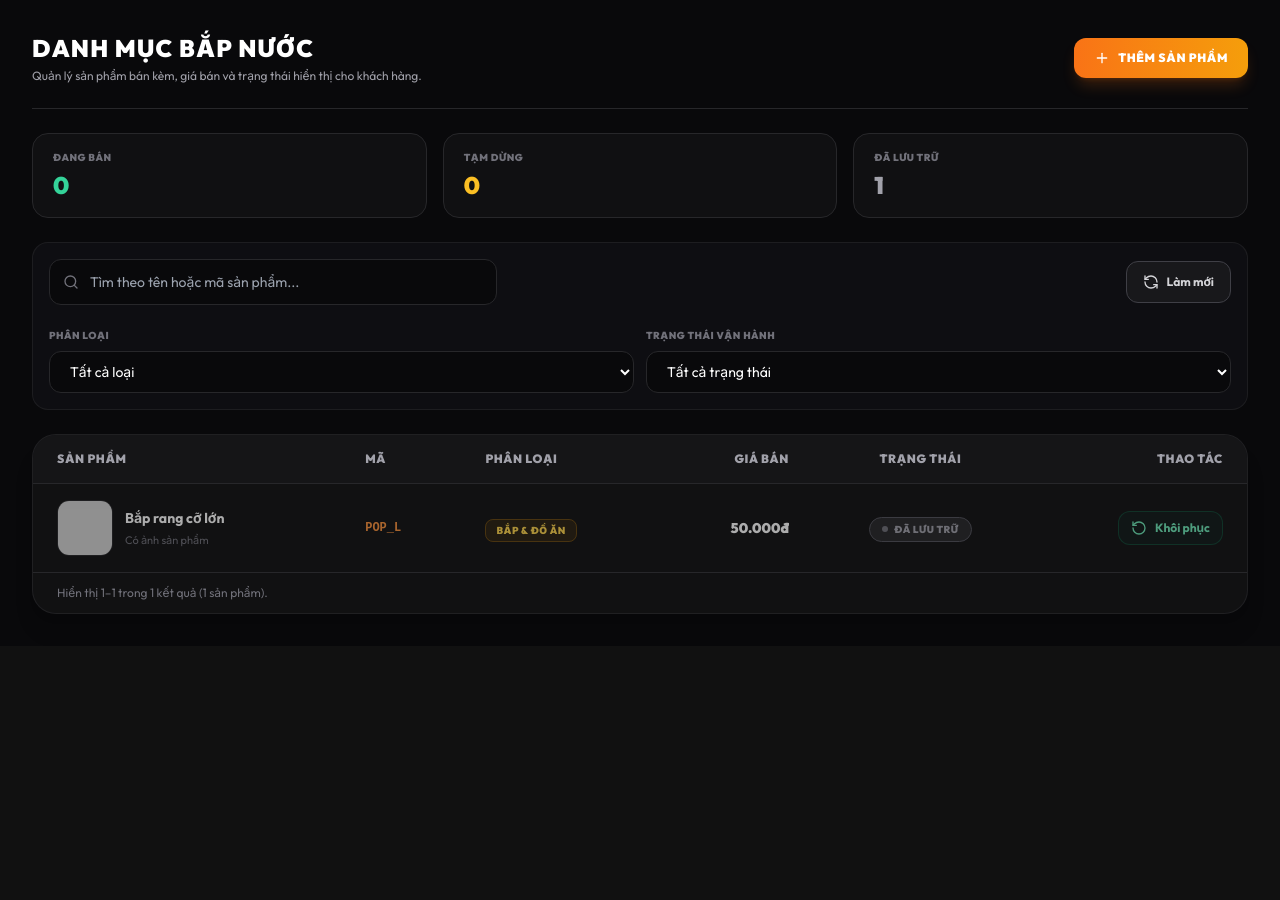
Test: AdminConcessionInventoryPage › restores an archived product in paused state
What coordinates should you click on to do the following:
click the button with aria-label "Khôi phục Bắp rang cỡ lớn"
I would click on:
 (1170, 528)
Its box is [1118,511,1223,545].
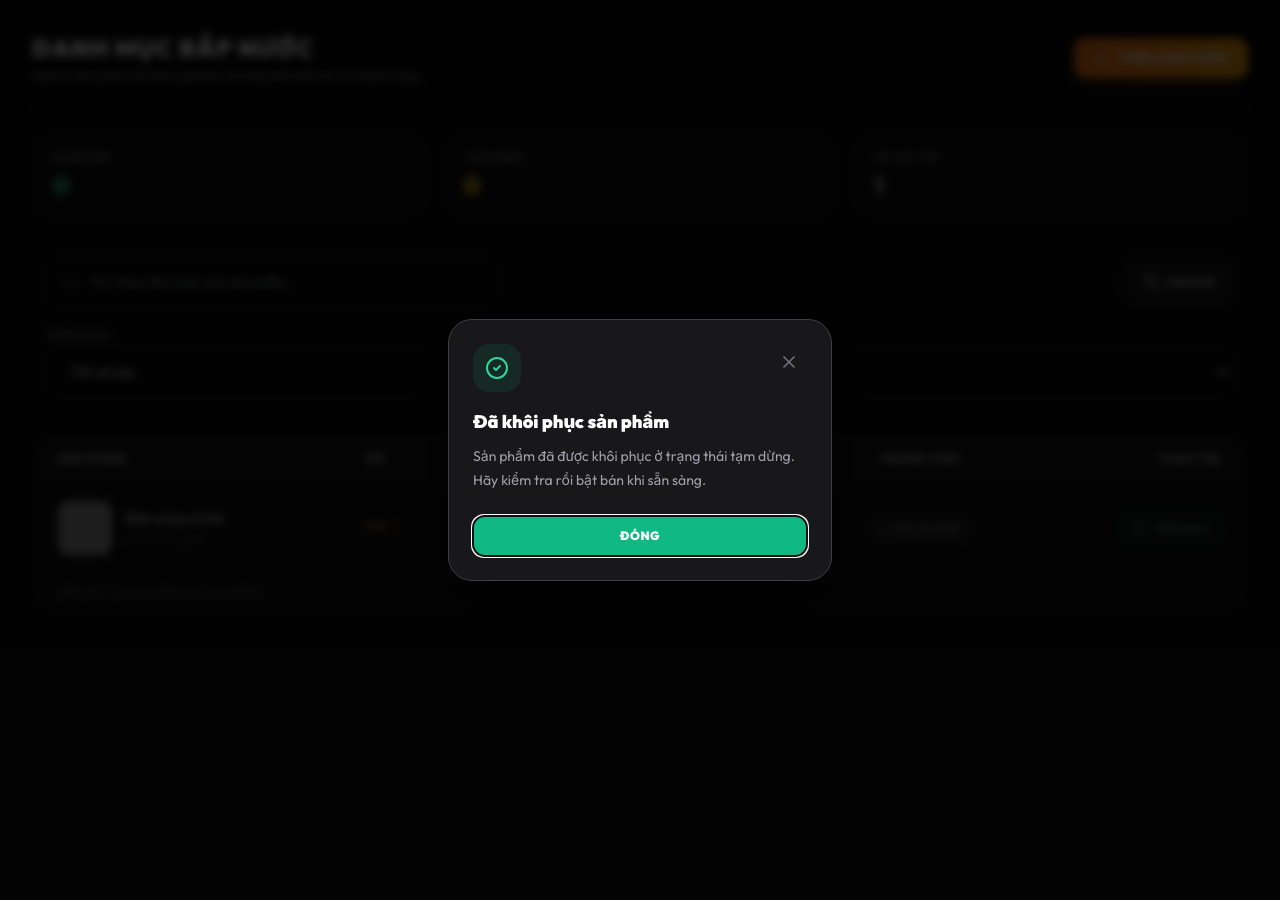
Result: the dialog "Đã khôi phục sản phẩm" is shown at [448,319,832,581]
